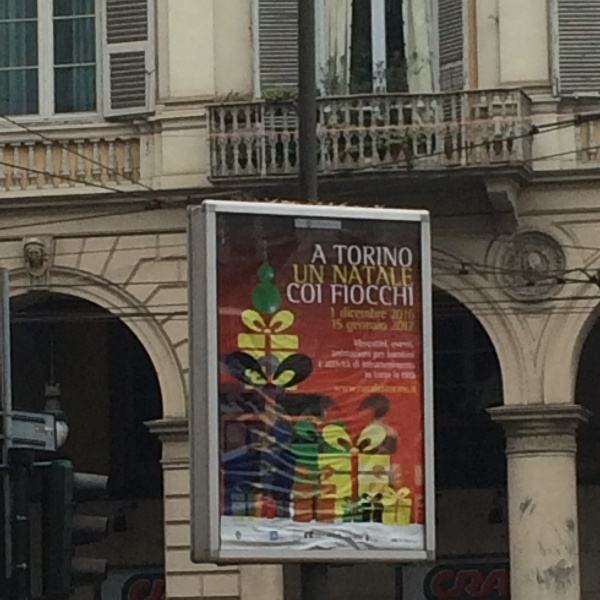text: (321, 338, 336, 396), (337, 338, 352, 396), (353, 338, 368, 396), (369, 338, 384, 396), (385, 338, 400, 396), (401, 338, 416, 396), (433, 569, 448, 599), (449, 569, 464, 599), (465, 569, 480, 599), (481, 569, 496, 599), (289, 281, 304, 306), (305, 281, 320, 306), (497, 569, 509, 599), (337, 284, 352, 307), (353, 284, 368, 307), (369, 284, 384, 307), (385, 284, 400, 307), (337, 265, 352, 287), (353, 265, 368, 287), (369, 265, 384, 287), (385, 265, 400, 287), (337, 245, 352, 266), (353, 245, 368, 266), (369, 245, 384, 266), (385, 245, 400, 266), (305, 264, 320, 284), (401, 284, 414, 307), (401, 265, 413, 287), (291, 264, 304, 284), (401, 245, 412, 266), (353, 321, 368, 336), (369, 321, 384, 336), (353, 306, 368, 320), (369, 306, 384, 320), (328, 284, 336, 307), (401, 320, 415, 333), (401, 308, 415, 320), (340, 306, 352, 320), (313, 244, 320, 265), (321, 244, 328, 265), (390, 308, 400, 320), (318, 338, 320, 396), (331, 265, 336, 287), (392, 320, 400, 333), (346, 321, 352, 336), (332, 245, 336, 266), (337, 318, 343, 331), (330, 308, 336, 319), (321, 264, 324, 284), (430, 569, 432, 599), (417, 338, 418, 396), (332, 318, 336, 331), (321, 281, 323, 306), (385, 321, 388, 336), (287, 281, 288, 306), (385, 306, 386, 320)
